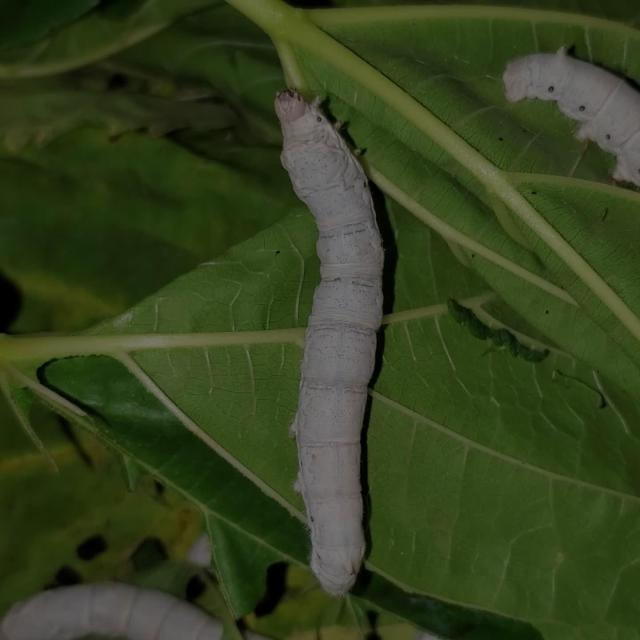Healthy: (253, 83, 399, 604)
